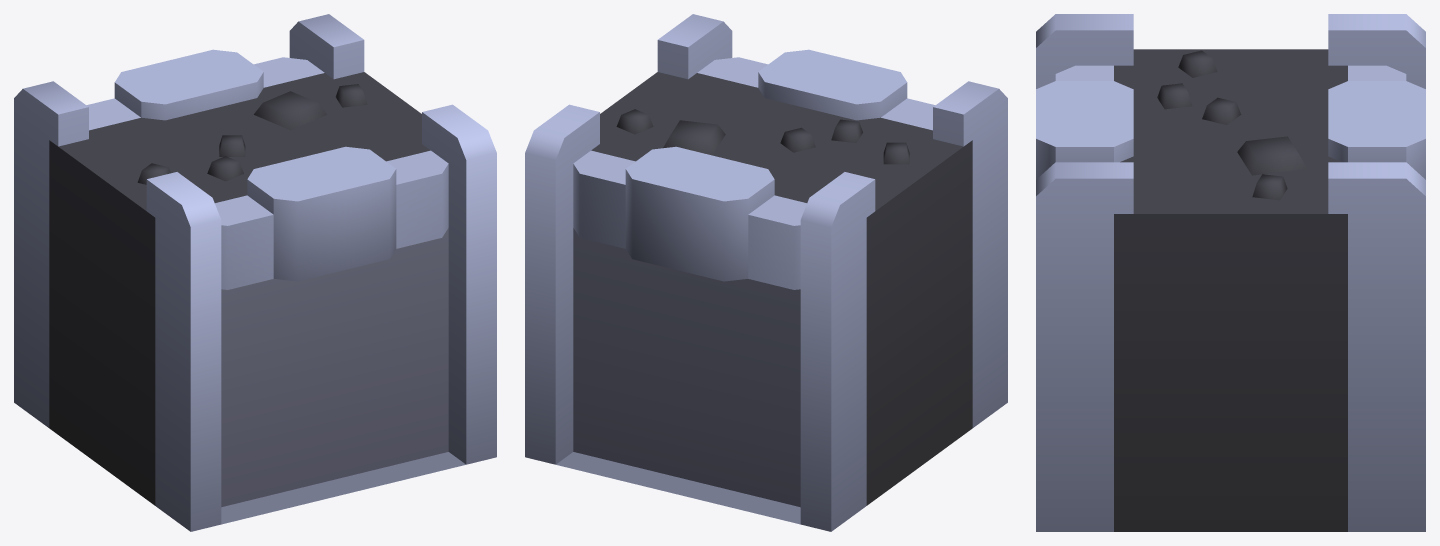
The picture shows the model from 3 angles, left to right: view 1: azimuth 30°, elevation 25°; view 2: azimuth 150°, elevation 25°; view 3: azimuth 270°, elevation 25°; orthographic projection. The views are drawn at different scales.
Parts seen in each view (by area): view 1: wall-narrow; view 2: wall-narrow; view 3: wall-narrow.
Boxes of the visible parts, x1,y1,x2,y2 form: wall-narrow: (14,14,496,531); wall-narrow: (525,14,1007,531); wall-narrow: (1036,14,1425,531).
Bounding box in the file's own units: 1 × 1 × 1.
Materials: 1 (1 with a texture image).
